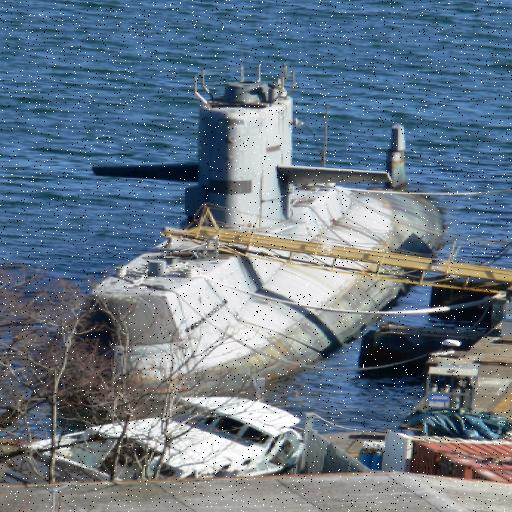submarine: (45, 46, 454, 434)
